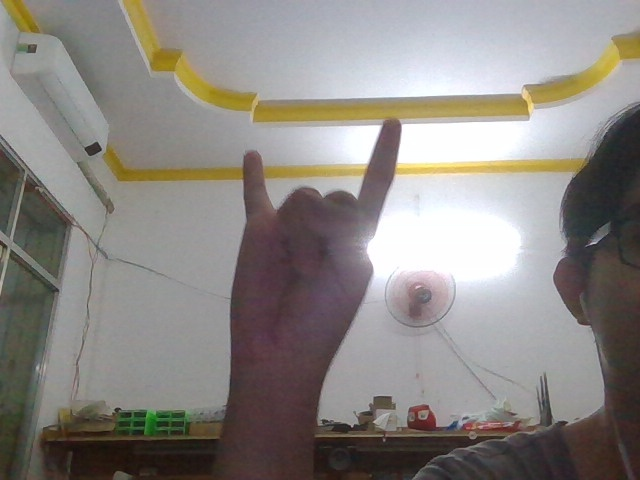yolo: (224, 111, 409, 435)
